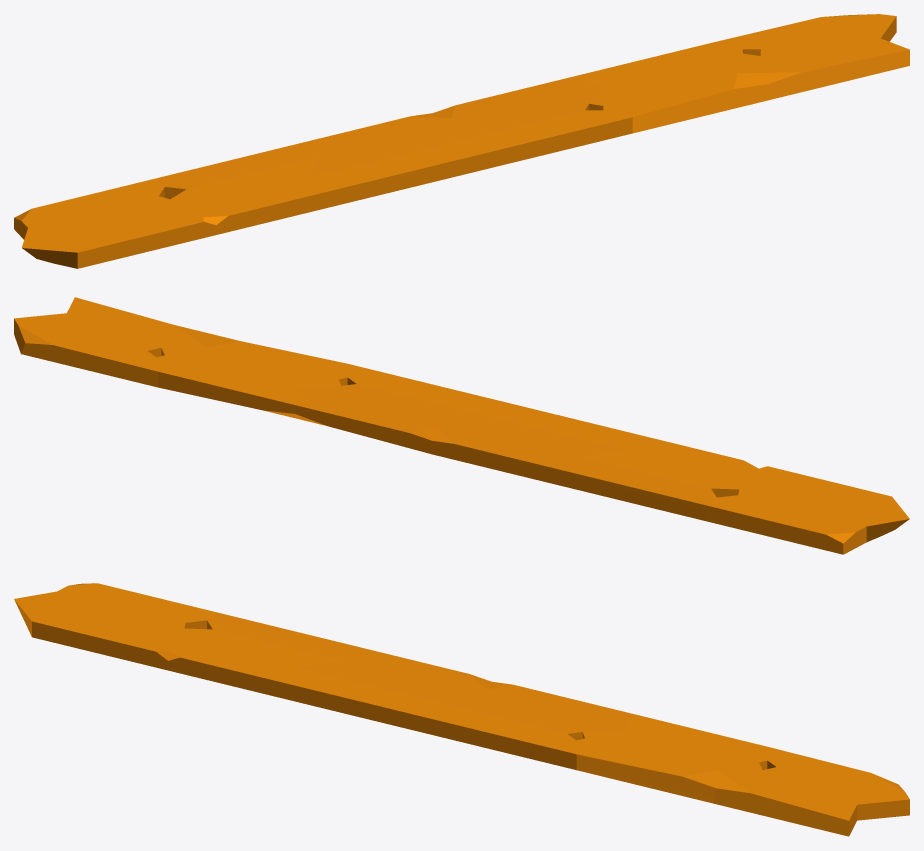
The model's file is Rotten wood_5.fbx.
3 views of the same model, one above another, from view 1: azimuth 30°, elevation 25°; view 2: azimuth 150°, elevation 25°; view 3: azimuth 330°, elevation 25° (orthographic).
Parts seen in each view (by area): view 1: Cube.060; view 2: Cube.060; view 3: Cube.060.
Part boxes in pixels (left/top/right/bottom): Cube.060: left=14, top=14, right=909, bottom=268; Cube.060: left=14, top=297, right=909, bottom=554; Cube.060: left=14, top=583, right=909, bottom=836.
Bounding box in the file's own units: 119 × 2.07 × 13.07.
